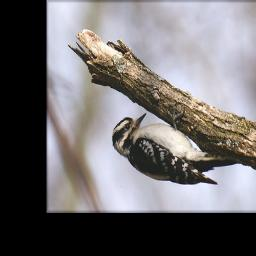Woodpecker: (103, 110, 241, 192)
